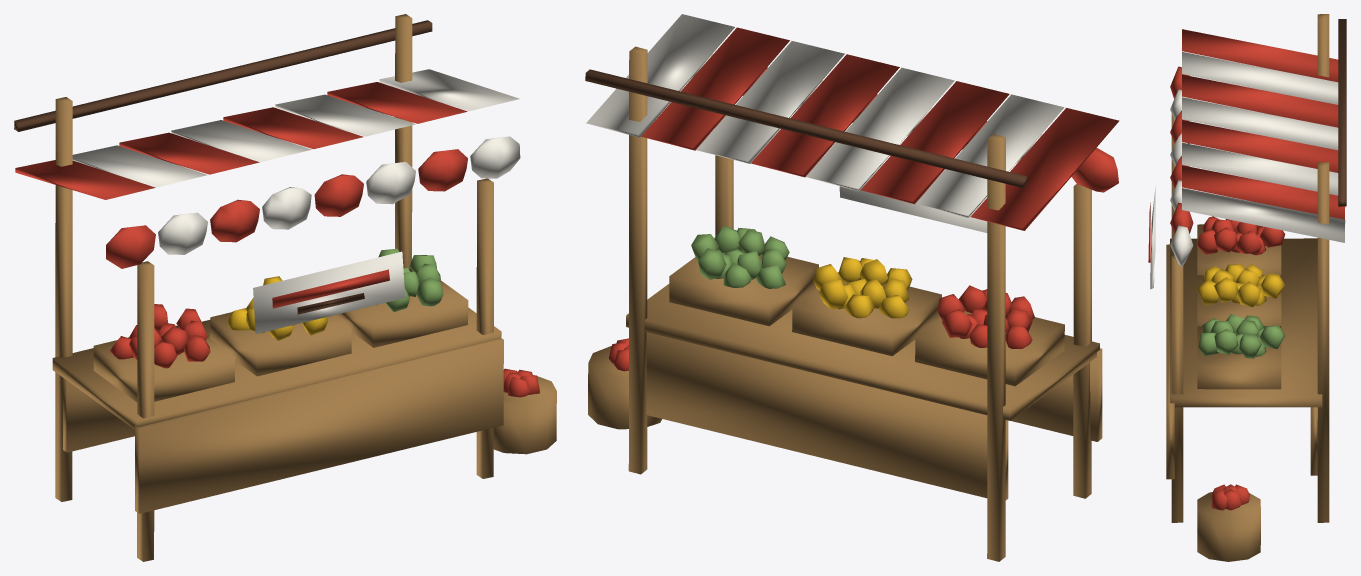
File: fruit_stand.glb
The picture shows the model from 3 angles, left to right: view 1: azimuth 30°, elevation 25°; view 2: azimuth 150°, elevation 25°; view 3: azimuth 270°, elevation 25°; orthographic projection. The views are drawn at different scales.
Parts seen in each view (by area): view 1: fruit_stand; view 2: fruit_stand; view 3: fruit_stand.
Boxes of the visible parts, left/top/right/bottom form: fruit_stand: left=14, top=14, right=556, bottom=561; fruit_stand: left=585, top=14, right=1119, bottom=561; fruit_stand: left=1148, top=14, right=1346, bottom=561.
Size of the model in its own units: 2.84 by 2.29 by 1.15.
